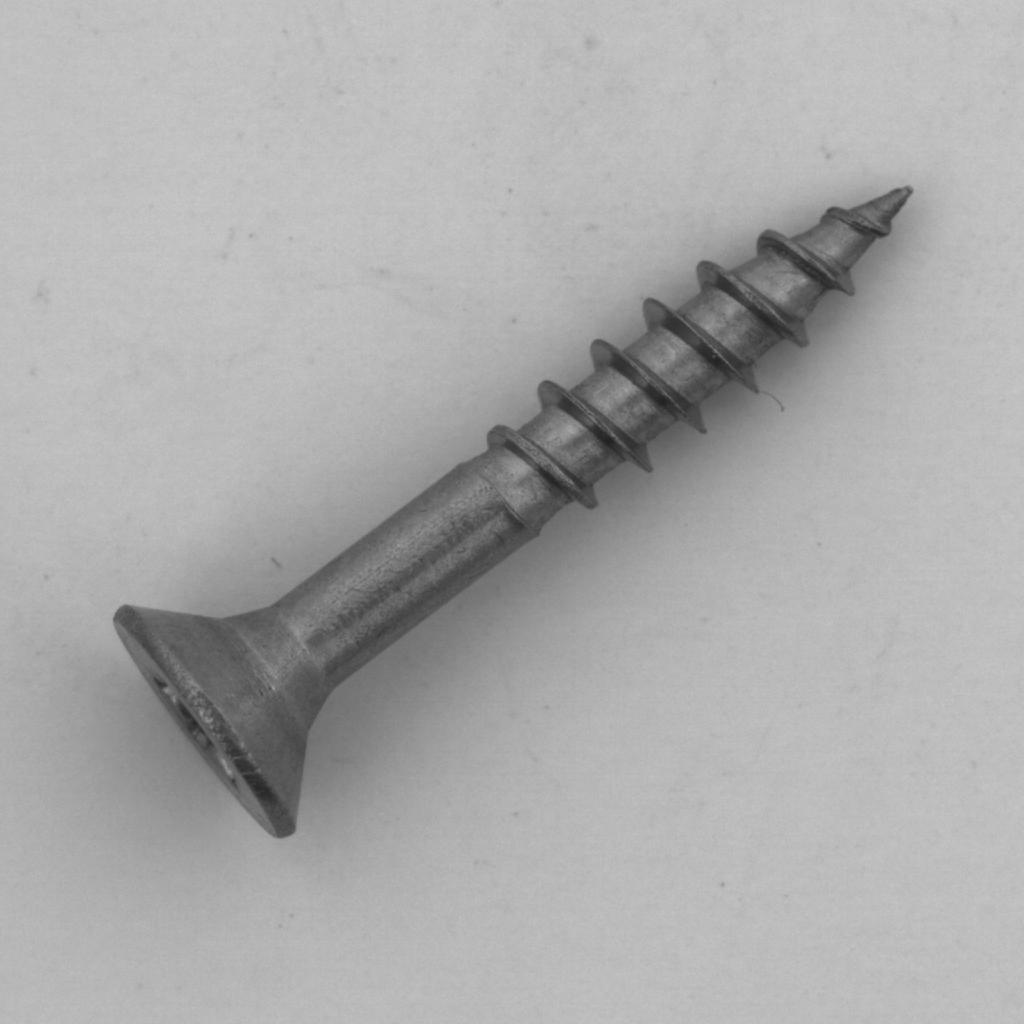good: (109, 149, 932, 851)
